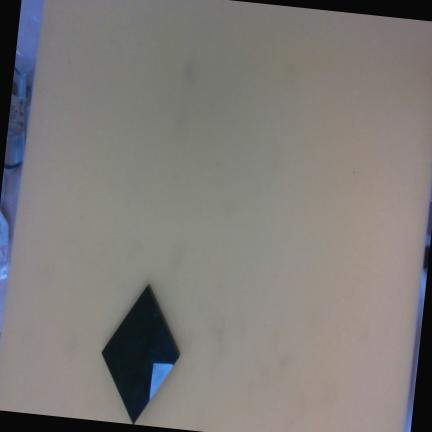tile: (77, 286, 202, 424)
